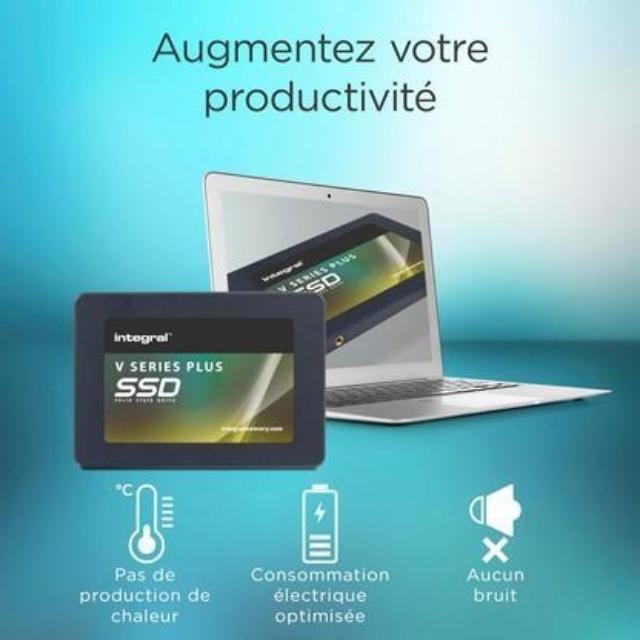DISK: (65, 280, 333, 474)
